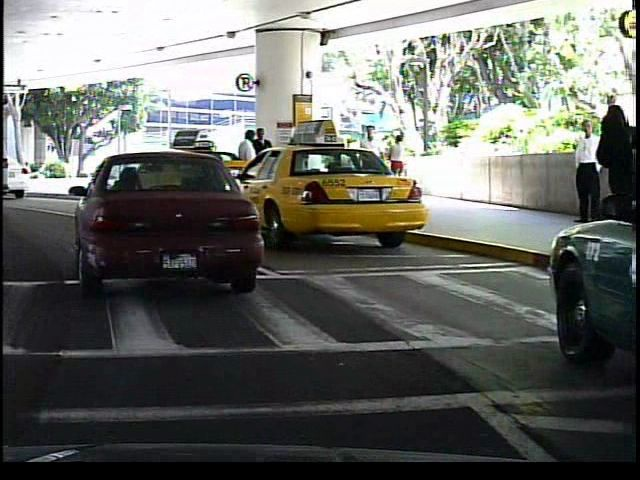person: (590, 98, 638, 258), (561, 112, 598, 224), (354, 118, 388, 203), (231, 127, 261, 206), (382, 130, 409, 196), (253, 125, 273, 202)
